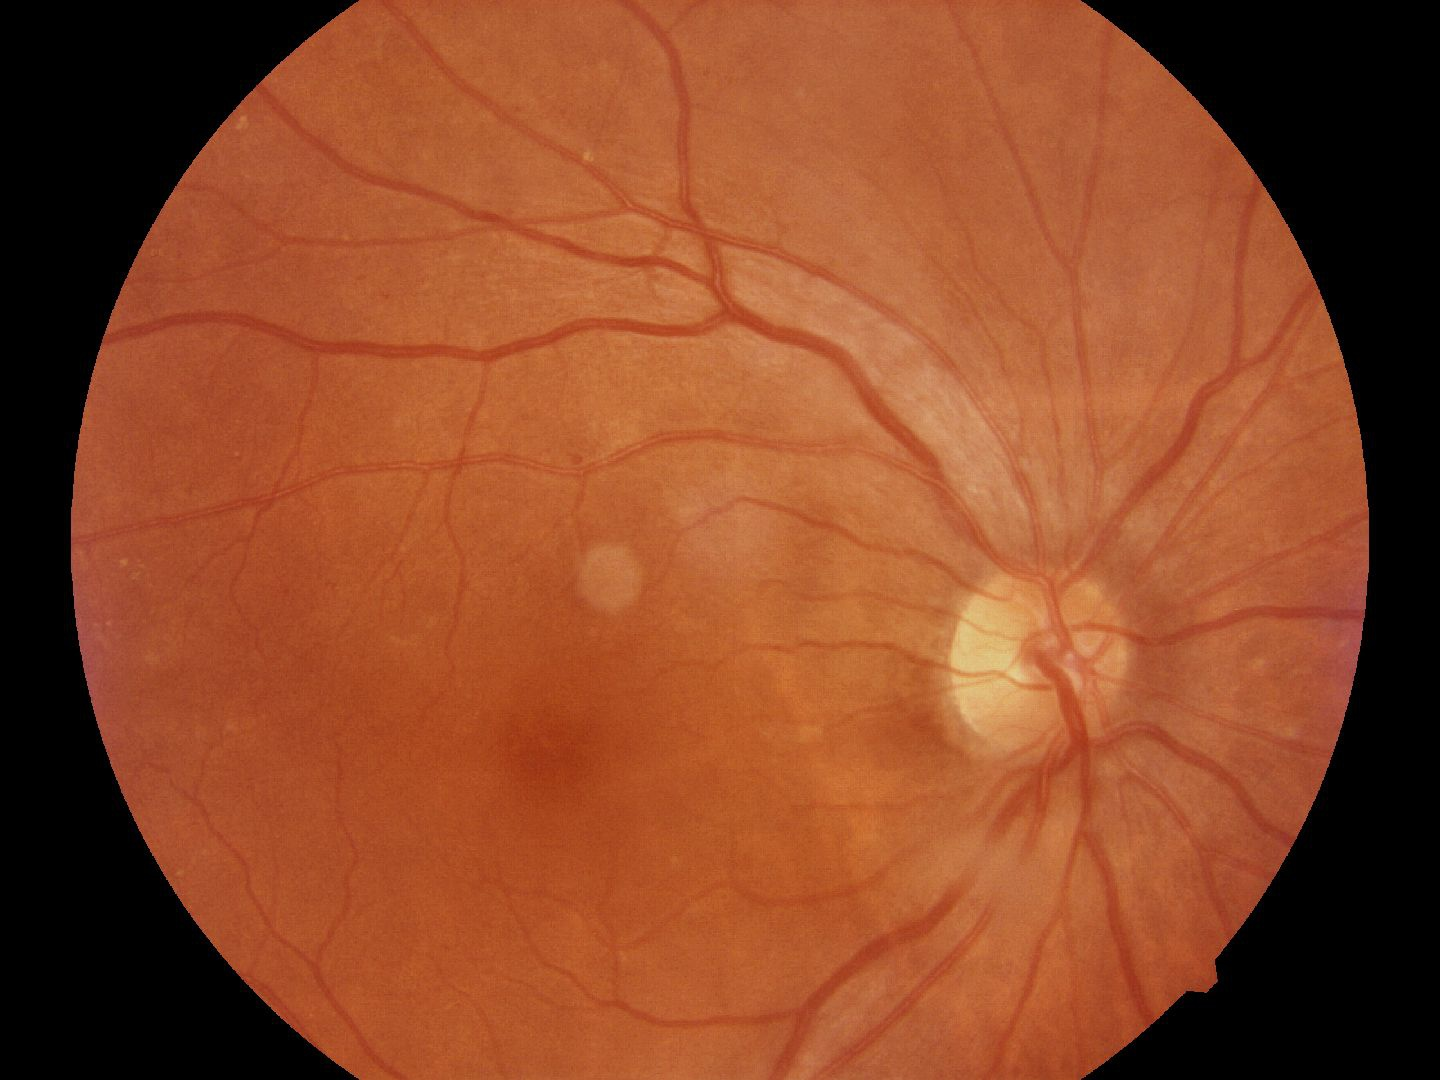Optic-Disc: (951, 531, 1130, 798)
Venules: (539, 186, 941, 427)
